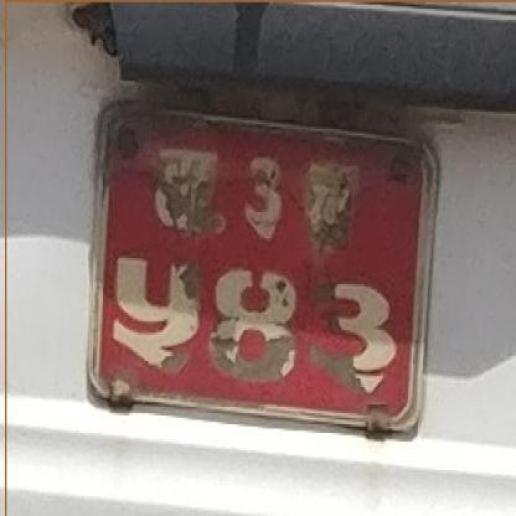3: (319, 280, 399, 392), (241, 155, 284, 241)
4: (211, 267, 295, 385)
5: (112, 253, 202, 370)
ba: (148, 144, 222, 234)
cha: (305, 160, 359, 247)
